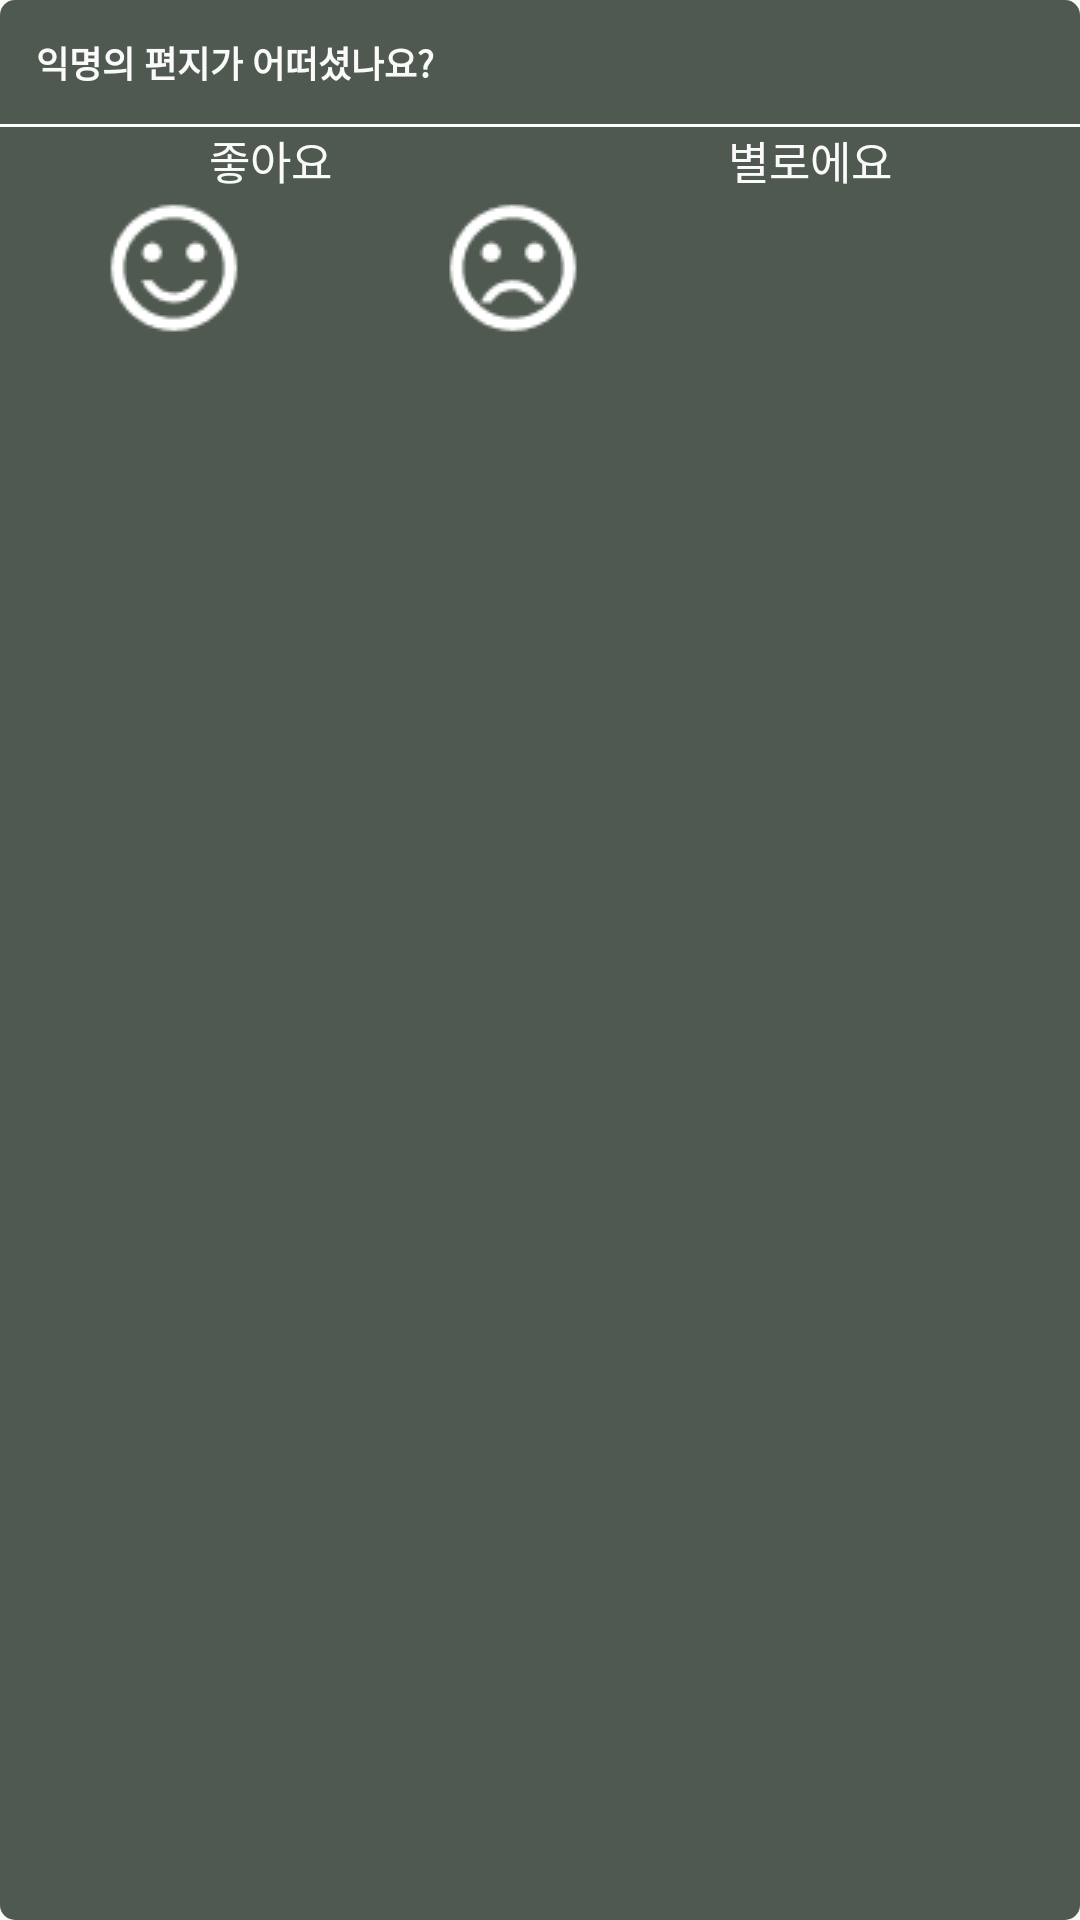

Point at icon controls on the screen. Image size 1080 x 1920, points as (x,y).
sentiment dissatisfied: (513,268)
sentiment satisfied: (174,268)
